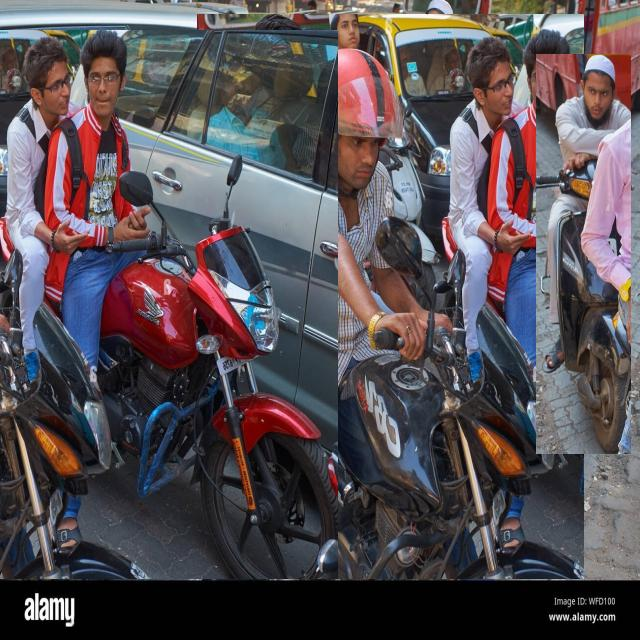motorcycle: (198, 15, 584, 579), (0, 30, 338, 579), (536, 55, 631, 454)
